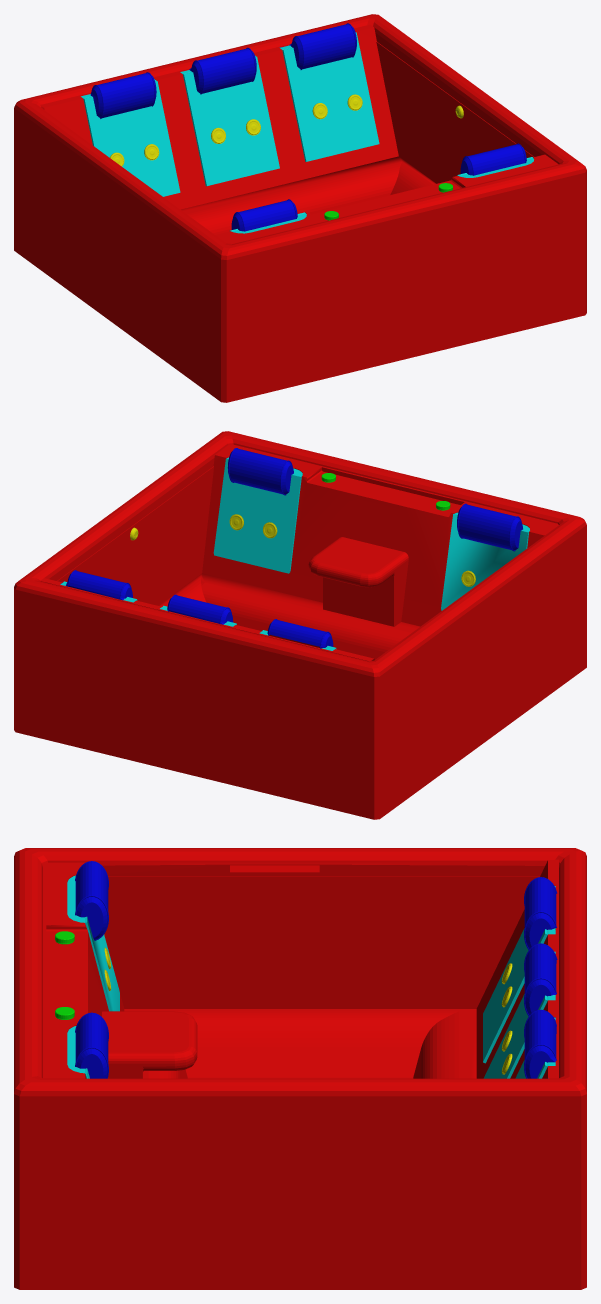
Rendered from mv_Jacuzzi.fbx.
The picture shows the model from 3 angles, top to bottom: view 1: azimuth 30°, elevation 25°; view 2: azimuth 150°, elevation 25°; view 3: azimuth 270°, elevation 25°; orthographic projection. The views are drawn at different scales.
Parts seen in each view (by area): view 1: Jacuzzi_LOD0; view 2: Jacuzzi_LOD0; view 3: Jacuzzi_LOD0.
Part boxes in pixels (bbox=[...]): Jacuzzi_LOD0: bbox=[14, 14, 586, 402]; Jacuzzi_LOD0: bbox=[14, 431, 586, 819]; Jacuzzi_LOD0: bbox=[14, 848, 586, 1289].
Size of what is drawn, in the model's own units: 230 by 95.7 by 230.
